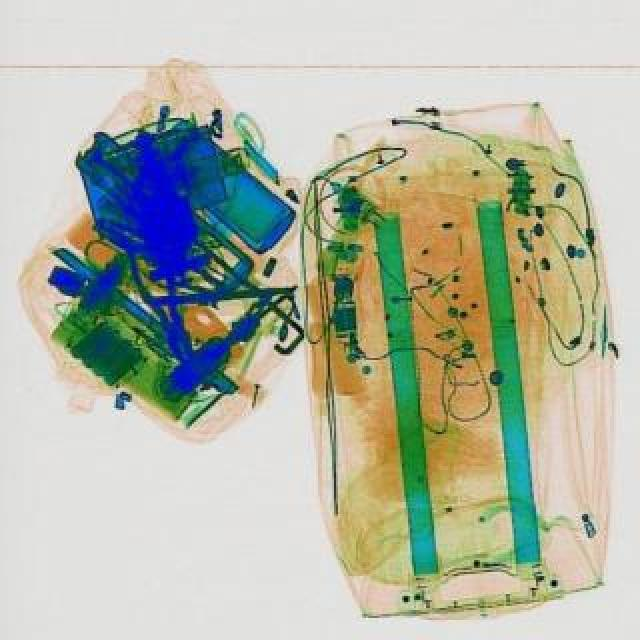wrench: (120, 236, 202, 368)
